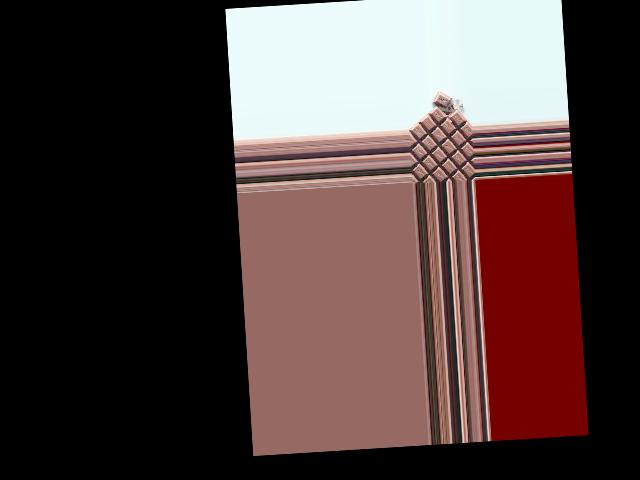chocolate: (409, 98, 474, 184)
